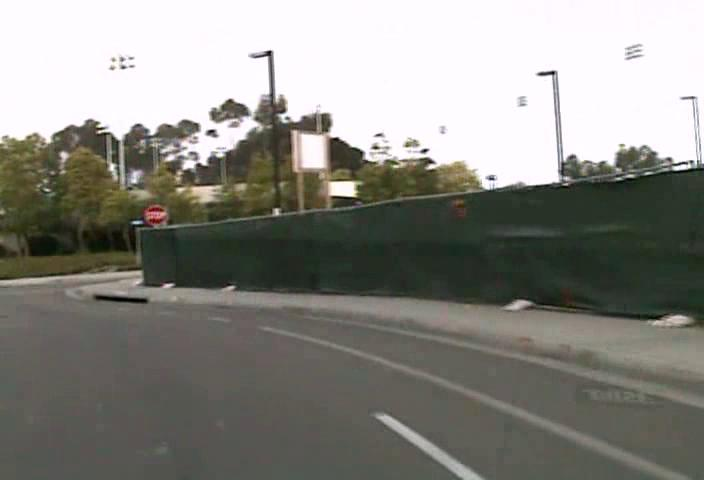stop: (144, 203, 167, 227)
